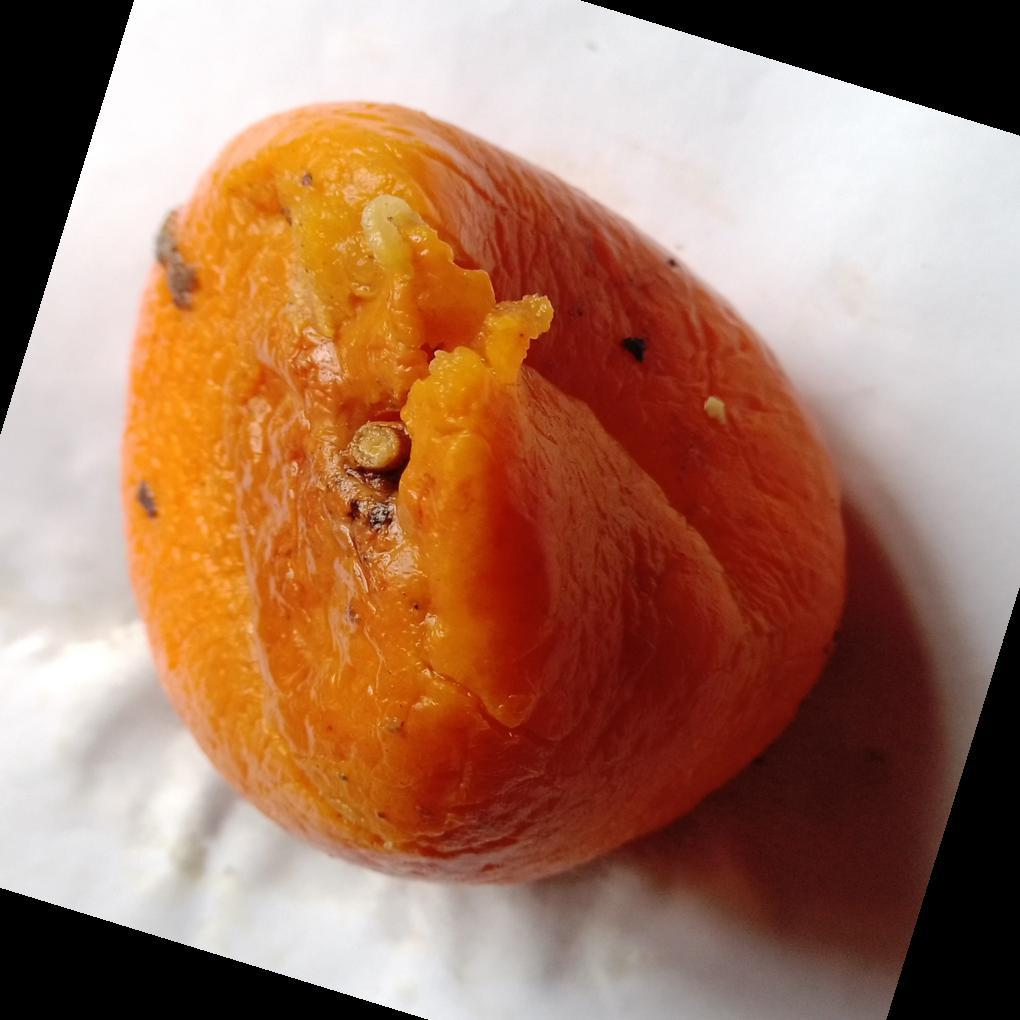FreshOrange: (119, 101, 851, 891)
